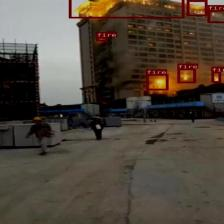fire: (69, 0, 184, 18), (146, 74, 168, 90), (186, 0, 207, 16), (177, 68, 195, 83), (207, 10, 224, 22), (211, 72, 221, 82), (96, 37, 107, 41)
